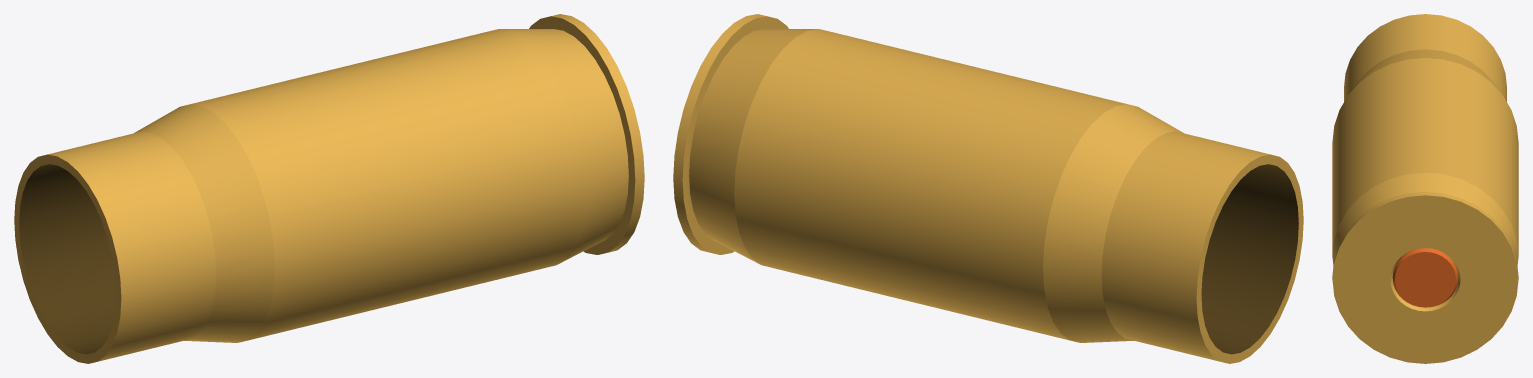
Rendered from Casing.gltf.
3 renders of one model, left to right at view 1: azimuth 30°, elevation 25°; view 2: azimuth 150°, elevation 25°; view 3: azimuth 270°, elevation 25°, orthographic. The views are drawn at different scales.
Visible parts, largest first — view 1: Casing_LOD0; view 2: Casing_LOD0; view 3: Casing_LOD0.
Boxes of the visible parts, x1=… form: Casing_LOD0: x1=14, y1=14, x2=644, y2=363; Casing_LOD0: x1=673, y1=14, x2=1303, y2=363; Casing_LOD0: x1=1332, y1=14, x2=1518, y2=363.
Size of what is drawn, in the model's own units: 0.0552 by 0.0226 by 0.0226.
